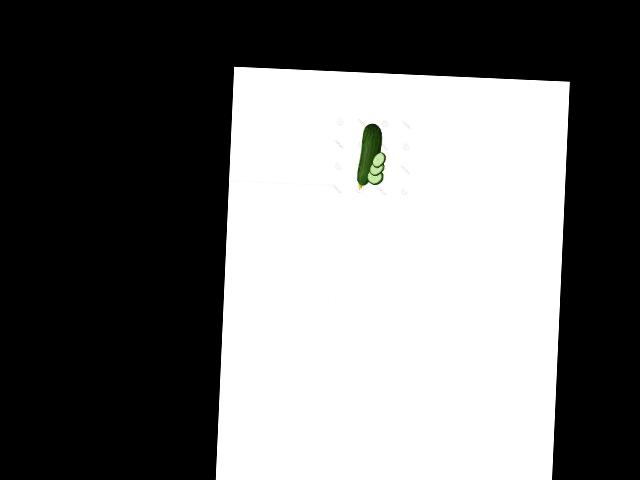cucumber: (357, 122, 383, 189)
